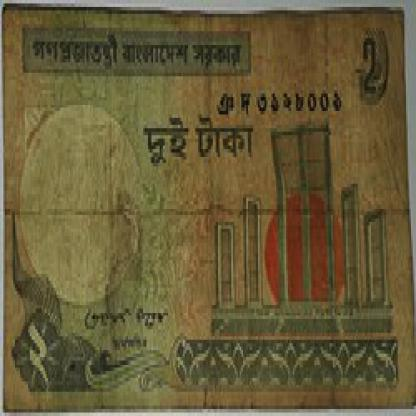two taka: (136, 118, 262, 177), (20, 308, 57, 392), (353, 35, 379, 94)
